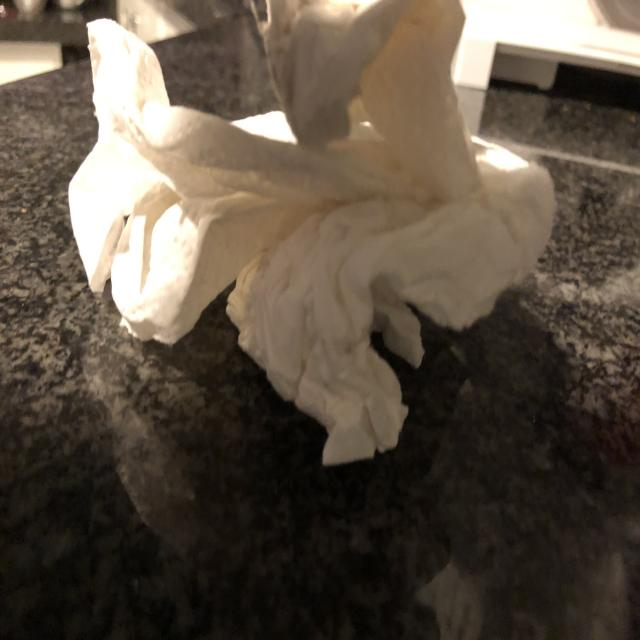kitchen paper: (65, 0, 564, 472)
